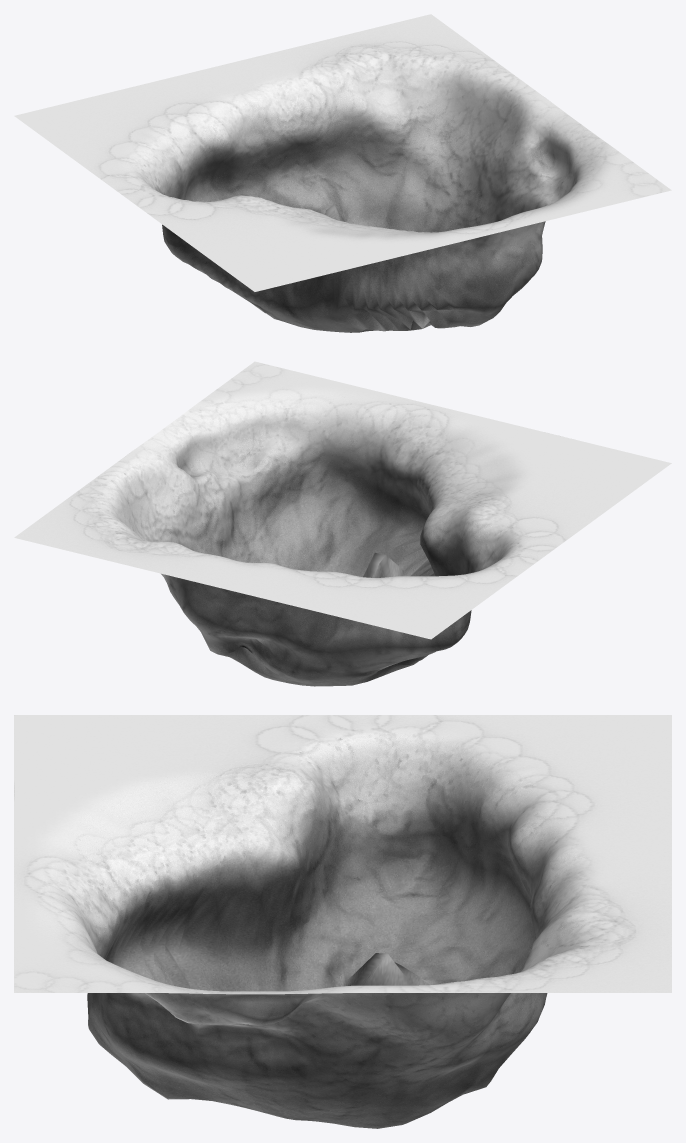
Rendered from RockTest.dae.
The picture shows the model from 3 angles, top to bottom: view 1: azimuth 30°, elevation 25°; view 2: azimuth 150°, elevation 25°; view 3: azimuth 270°, elevation 25°; orthographic projection. The views are drawn at different scales.
Visible parts, largest first — view 1: Grid; view 2: Grid; view 3: Grid.
Boxes of the visible parts, left/top/right/bottom form: Grid: left=14, top=14, right=671, bottom=332; Grid: left=14, top=361, right=671, bottom=686; Grid: left=14, top=715, right=671, bottom=1128.
Bounding box in the file's own units: 20.01 × 20 × 8.
Materials: 1 (1 with a texture image).
